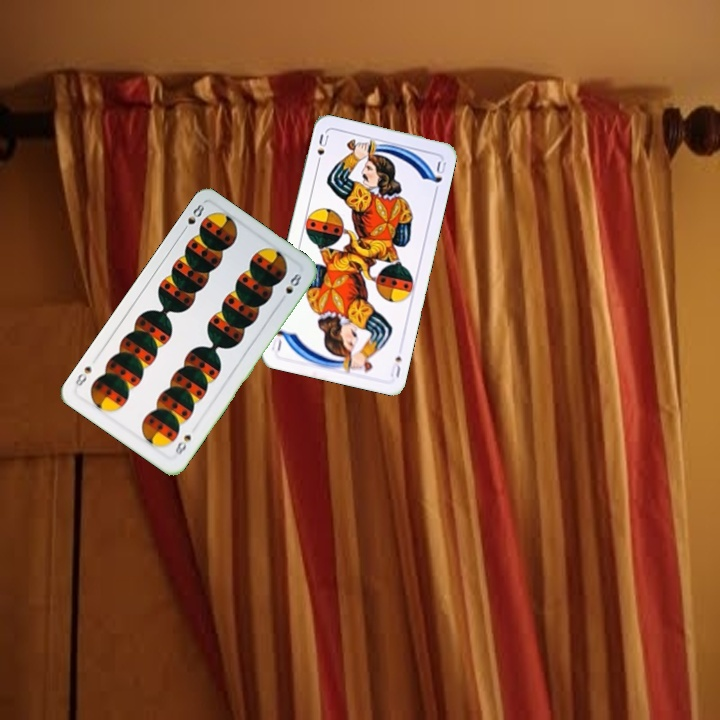S8: (177, 200, 207, 236), (171, 430, 194, 458)
SU: (313, 130, 331, 169), (386, 352, 404, 380)
